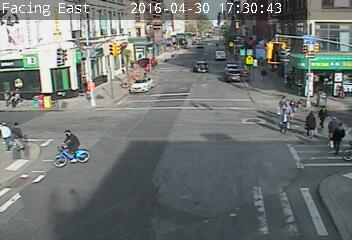neg: (50, 122, 85, 169), (22, 186, 52, 227), (199, 170, 228, 209), (140, 161, 167, 197), (146, 107, 166, 134), (200, 115, 218, 139), (84, 32, 102, 55), (138, 71, 153, 91), (173, 27, 188, 47), (312, 179, 327, 199), (244, 49, 259, 68), (41, 56, 56, 75), (193, 58, 207, 76), (10, 85, 23, 103), (47, 93, 59, 110), (83, 73, 95, 90), (207, 29, 218, 45), (226, 34, 232, 42)
pos: (329, 122, 351, 157), (324, 115, 345, 144), (6, 122, 27, 150), (303, 111, 324, 139), (277, 107, 296, 133), (316, 104, 335, 129), (276, 93, 293, 116), (286, 98, 302, 119), (279, 100, 294, 120), (259, 68, 271, 85)
